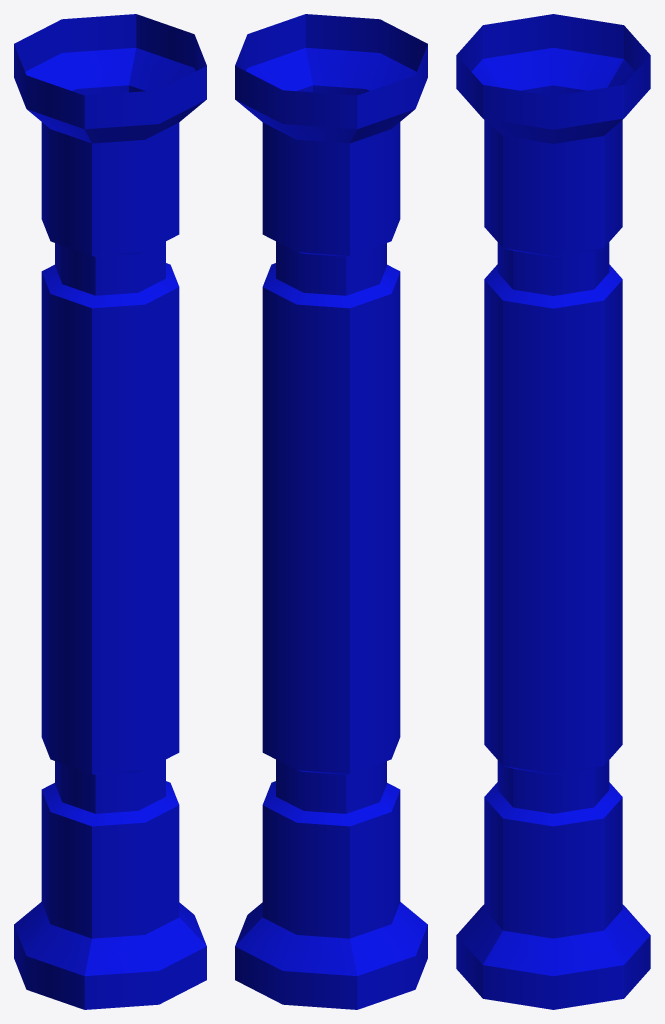
The model's file is SM_VALVE_CANO_01.fbx.
The picture shows the model from 3 angles, left to right: view 1: azimuth 30°, elevation 25°; view 2: azimuth 150°, elevation 25°; view 3: azimuth 270°, elevation 25°; orthographic projection.
Visible parts, largest first — view 1: SM_VALVE_CANO_01; view 2: SM_VALVE_CANO_01; view 3: SM_VALVE_CANO_01.
Boxes of the visible parts, box(x1,y1,x2,y2) form: SM_VALVE_CANO_01: box(14, 14, 206, 1009); SM_VALVE_CANO_01: box(235, 14, 427, 1009); SM_VALVE_CANO_01: box(456, 14, 650, 1009).
Size of the model in its own units: 0.77 by 4 by 0.77.
